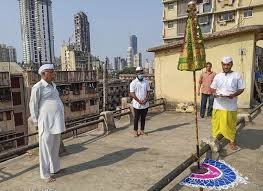Good: (28, 62, 152, 183), (127, 62, 215, 137), (197, 54, 243, 154)
